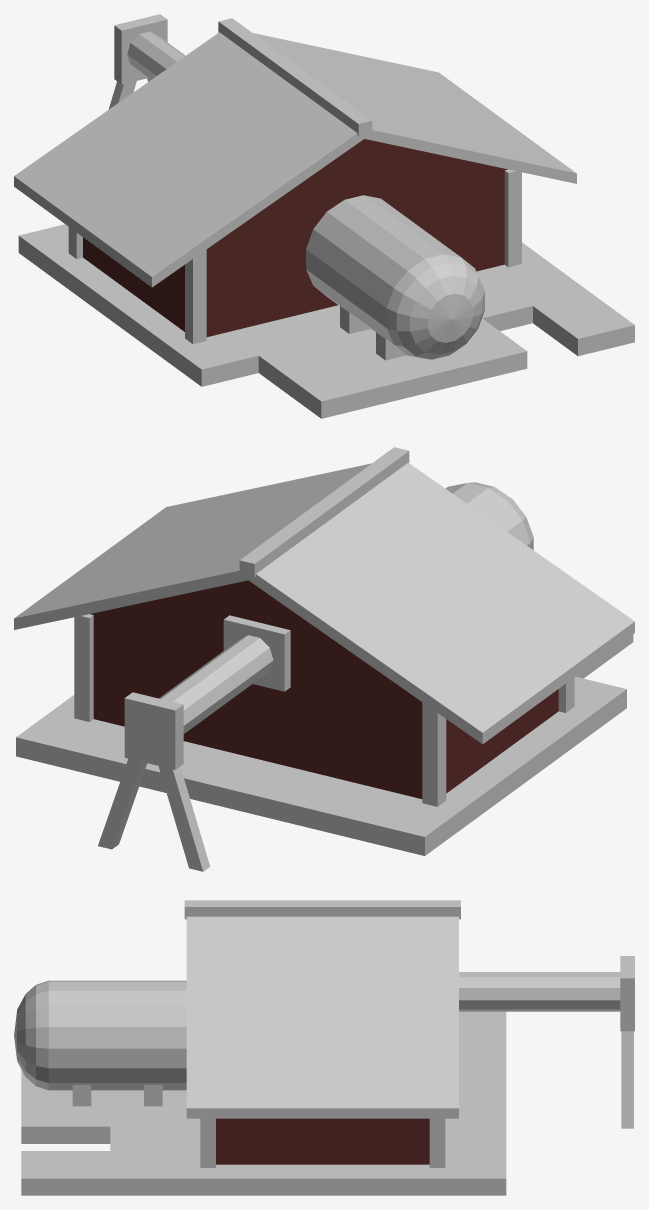
File: watermill.obj
The picture shows the model from 3 angles, top to bottom: view 1: azimuth 30°, elevation 25°; view 2: azimuth 150°, elevation 25°; view 3: azimuth 270°, elevation 25°; orthographic projection. The views are drawn at different scales.
Parts seen in each view (by area): view 1: watermill_roof, watermill_deck, watermill_walls, watermill_generator, watermill_ridge, watermill_post_WS, watermill_bearing_far, watermill_post_ES, watermill_shaft; view 2: watermill_roof, watermill_walls, watermill_deck, watermill_shaft, watermill_ridge, watermill_bearing_far, watermill_bearing_house, watermill_generator, watermill_post_WN, watermill_leg_W, watermill_post_EN, watermill_leg_E; view 3: watermill_roof, watermill_deck, watermill_generator, watermill_walls, watermill_shaft, watermill_ridge, watermill_leg_E, watermill_bearing_far, watermill_post_EN, watermill_post_ES, watermill_cradle_1.
Part boxes in pixels (x1,y1,x2,y2): watermill_roof: (14, 32, 576, 287); watermill_deck: (18, 224, 634, 418); watermill_walls: (83, 139, 507, 336); watermill_generator: (306, 195, 484, 359); watermill_ridge: (218, 18, 372, 136); watermill_post_WS: (185, 249, 206, 344); watermill_bearing_far: (114, 14, 167, 84); watermill_post_ES: (504, 169, 521, 267); watermill_shaft: (127, 31, 185, 79); watermill_roof: (14, 462, 634, 744); watermill_walls: (90, 580, 558, 798); watermill_deck: (16, 634, 633, 855); watermill_shaft: (159, 635, 273, 733); watermill_ridge: (239, 447, 409, 577); watermill_bearing_far: (124, 692, 183, 769); watermill_bearing_house: (223, 615, 290, 691); watermill_generator: (445, 482, 533, 549); watermill_post_WN: (422, 702, 446, 806); watermill_leg_W: (158, 766, 209, 871); watermill_post_EN: (74, 614, 93, 721); watermill_leg_E: (98, 758, 147, 849); watermill_roof: (186, 916, 458, 1118); watermill_deck: (21, 1011, 506, 1195); watermill_generator: (14, 980, 186, 1090); watermill_walls: (216, 1118, 429, 1164); watermill_shaft: (459, 972, 620, 1011); watermill_ridge: (184, 900, 460, 919); watermill_leg_E: (621, 1031, 633, 1128); watermill_bearing_far: (620, 956, 634, 1031); watermill_post_EN: (429, 1118, 445, 1167); watermill_post_ES: (200, 1118, 215, 1167); watermill_cradle_1: (72, 1085, 91, 1106).
Bounding box in the file's own units: 4.62 × 2.13 × 5.93.
